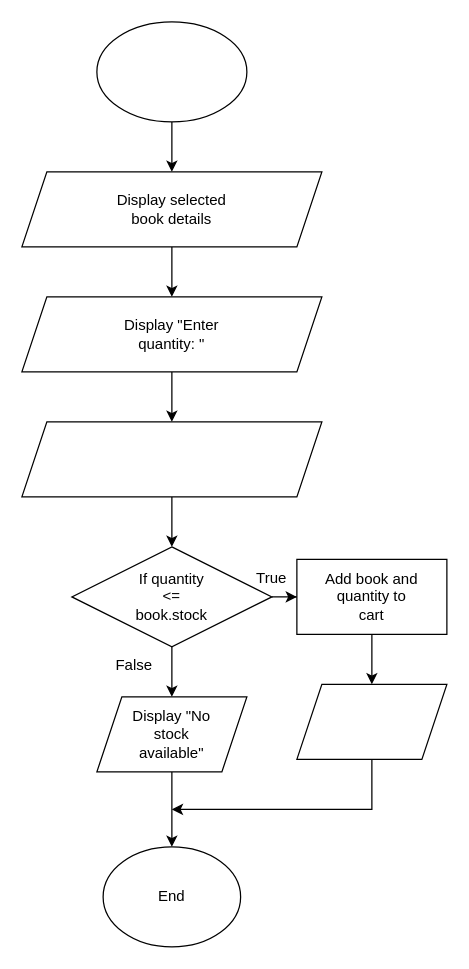
Image size: 469x969. Some labels were removed from this diagram. The shapes that lost their labels are listed below. From the top down, each one's centre as x and y in pixels, then its label:
[171,71]: Start
[171,459]: Input quantity
[371,721]: Display "added to cart"
